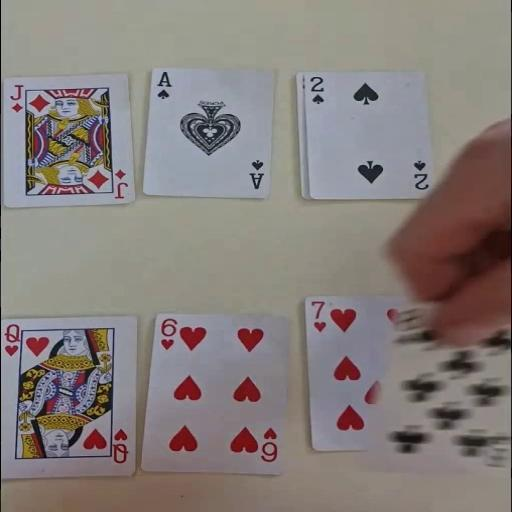2: (410, 158, 430, 190), (307, 74, 326, 105)
6: (258, 425, 280, 463), (158, 316, 178, 351)
7: (308, 298, 329, 334)
A: (246, 158, 266, 190), (154, 69, 173, 100)
J: (7, 82, 24, 114), (112, 167, 128, 199)
Q: (109, 426, 130, 464), (2, 322, 21, 357)
